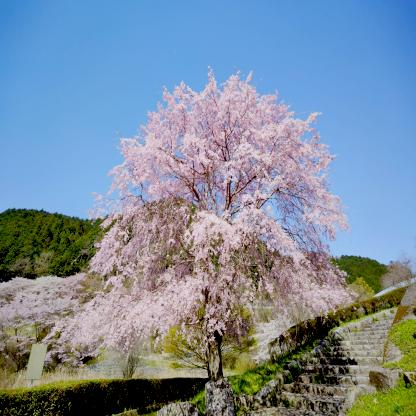ShidareZakura: (0, 65, 360, 370)
